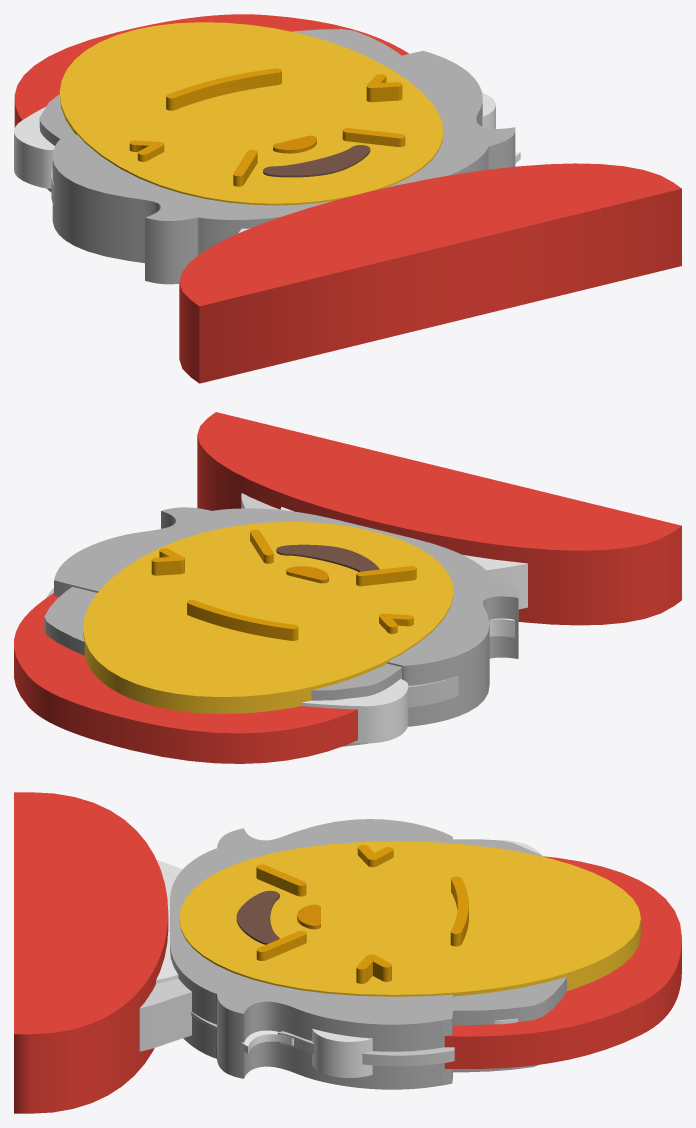
File: emoji_u1f9d1_200d_1f384.glb
3 views of the same model, one above another, from view 1: azimuth 30°, elevation 25°; view 2: azimuth 150°, elevation 25°; view 3: azimuth 270°, elevation 25° (orthographic). The views are drawn at different scales.
Visible parts, largest first — view 1: emoji_u1f9d1_200d_1f384; view 2: emoji_u1f9d1_200d_1f384; view 3: emoji_u1f9d1_200d_1f384.
Boxes of the visible parts, x1,y1,x2,y2 form: emoji_u1f9d1_200d_1f384: (14, 14, 681, 383); emoji_u1f9d1_200d_1f384: (14, 412, 681, 763); emoji_u1f9d1_200d_1f384: (14, 792, 681, 1113).
Size of the model in its own units: 0.0287 by 0.0054 by 0.0335.
